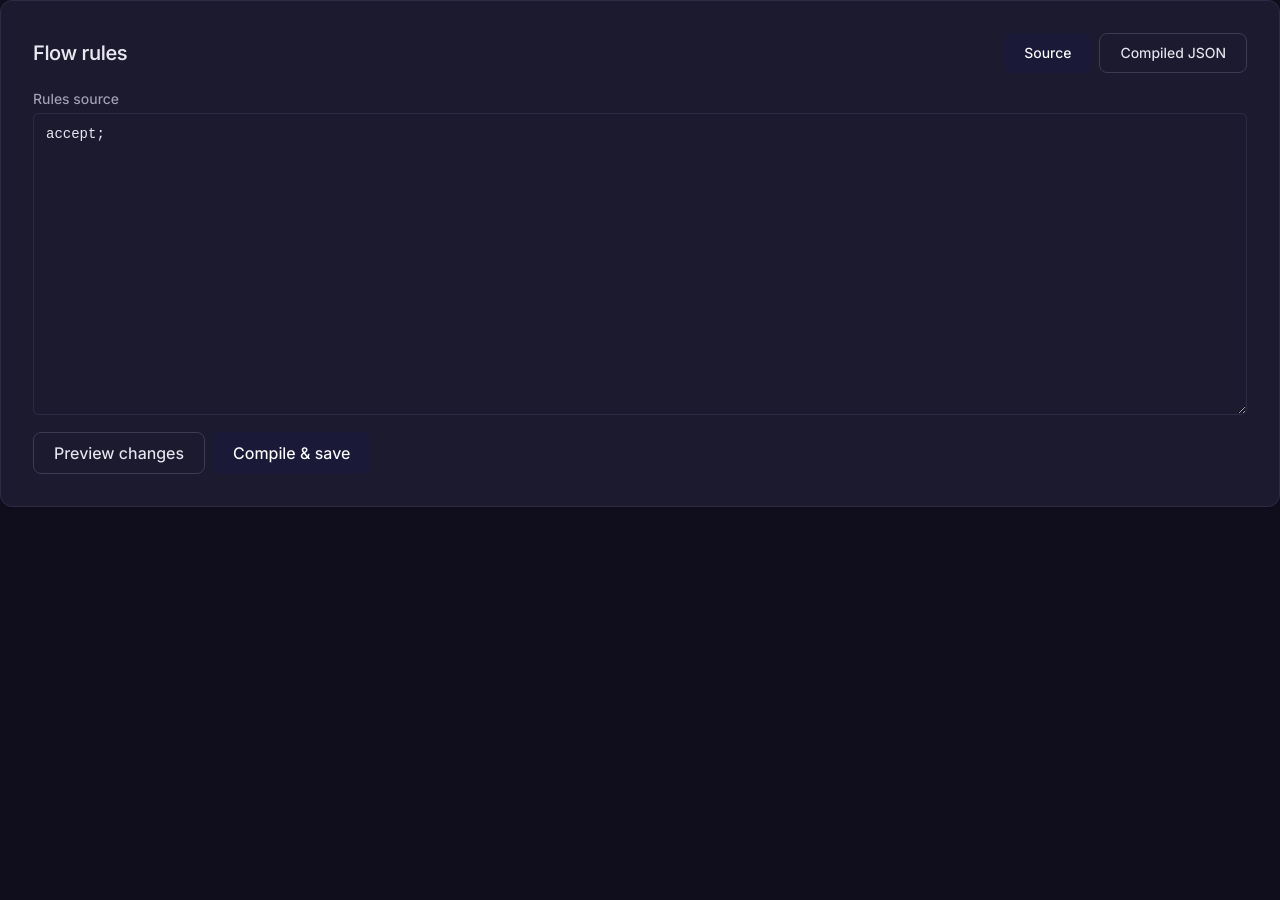
Test: RulesEditor › previews a diff of the compiled rules when the edited source changes
The width and height of the screenshot is (1280, 900).
Replace the text in the text box labelled "Rules source" with "drop;" at (640, 264), box [33,113,1247,415]
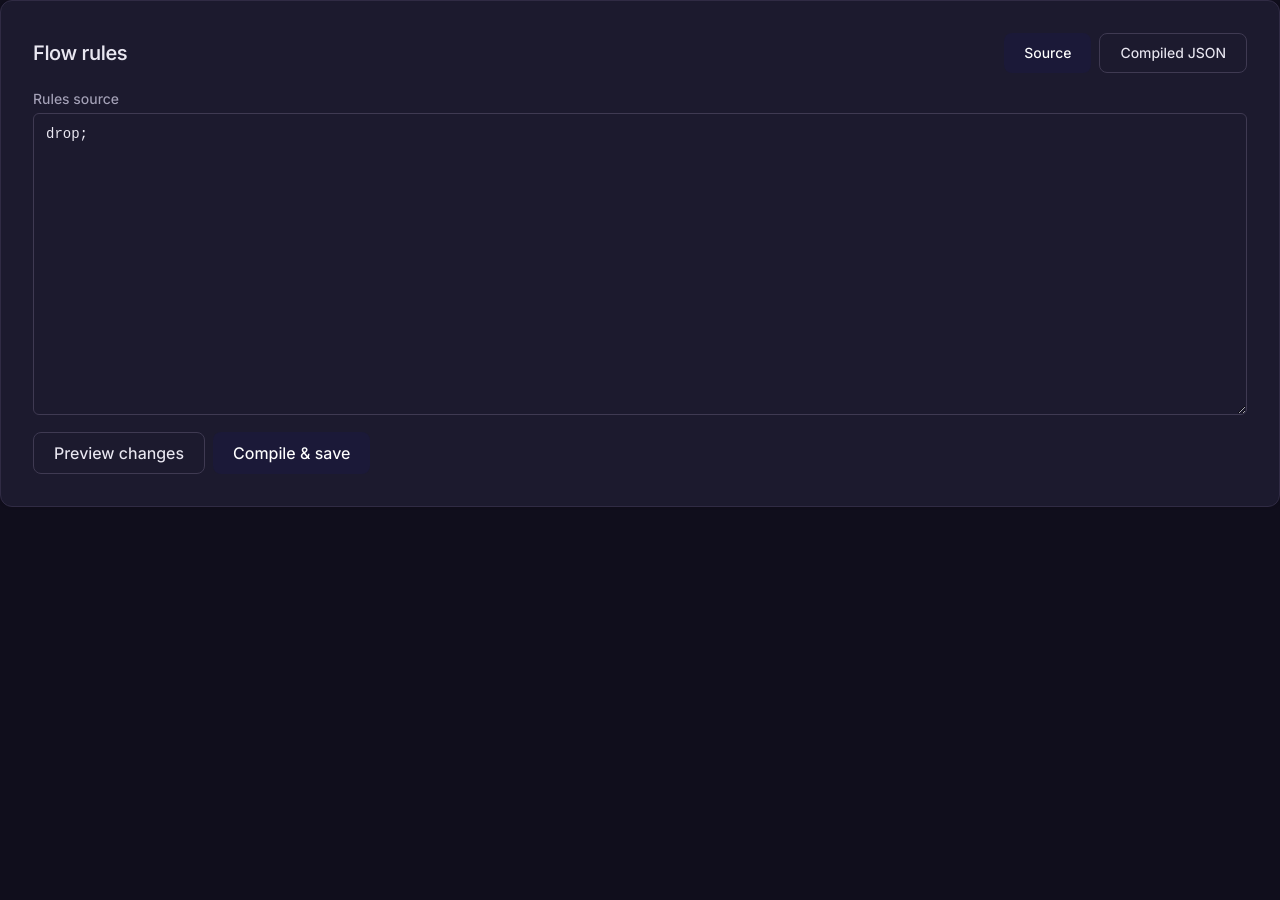
Click the button "Preview changes" at (119, 453), box [33,432,205,474]
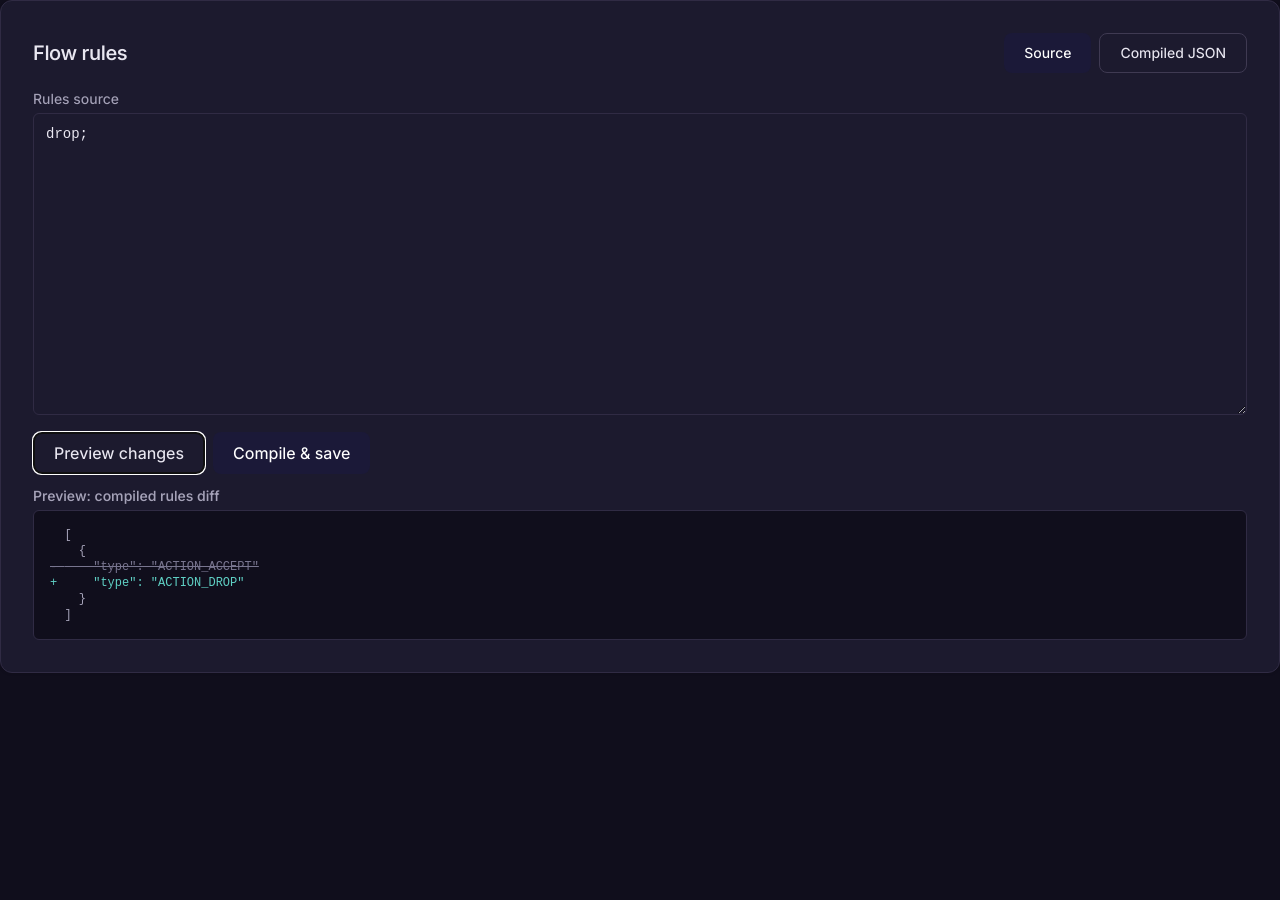
Check: the text "+ \"type\": \"ACTION_DROP\"" is shown, box [50,576,244,590]
Check: the text "- \"type\": \"ACTION_ACCEPT\"" is shown, box [50,560,259,574]
